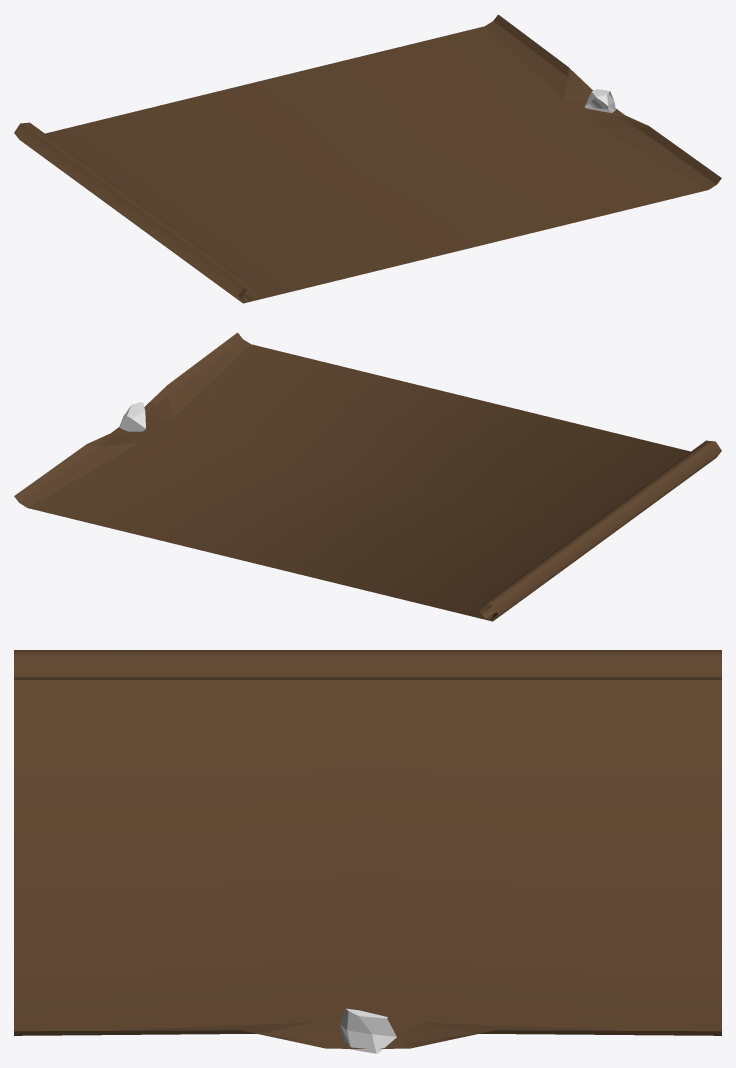
Rendered from map.FBX.
The picture shows the model from 3 angles, top to bottom: view 1: azimuth 30°, elevation 25°; view 2: azimuth 150°, elevation 25°; view 3: azimuth 270°, elevation 25°; orthographic projection. The views are drawn at different scales.
Parts seen in each view (by area): view 1: Plane001, Box024; view 2: Plane001, Box024; view 3: Plane001, Box024.
Part boxes in pixels (box(x1,y1,x2,y2)): Plane001: box(14, 14, 721, 303); Box024: box(584, 89, 615, 112); Plane001: box(14, 332, 721, 621); Box024: box(119, 402, 145, 431); Plane001: box(14, 650, 721, 1048); Box024: box(340, 1008, 396, 1053).
Size of the model in its own units: 10.07 by 0.4405 by 7.99.
